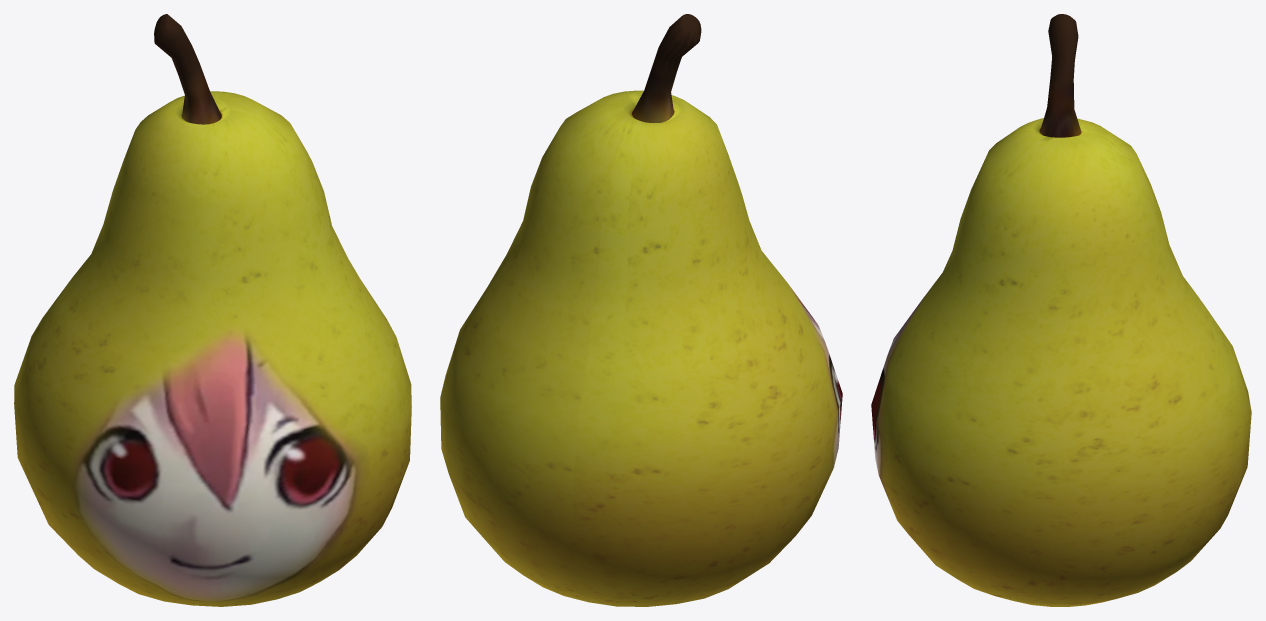
Rendered from teto_pear.glb.
3 views of the same model, side by side, from view 1: azimuth 30°, elevation 25°; view 2: azimuth 150°, elevation 25°; view 3: azimuth 270°, elevation 25° (orthographic). The views are drawn at different scales.
Parts seen in each view (by area): view 1: tetopear_0; view 2: tetopear_0; view 3: tetopear_0.
Part boxes in pixels (bbox=[...]): tetopear_0: bbox=[14, 14, 411, 606]; tetopear_0: bbox=[440, 14, 842, 606]; tetopear_0: bbox=[871, 14, 1251, 606].
Size of the model in its own units: 4.77 by 7.42 by 4.79.
Materials: 1 (1 with a texture image).
